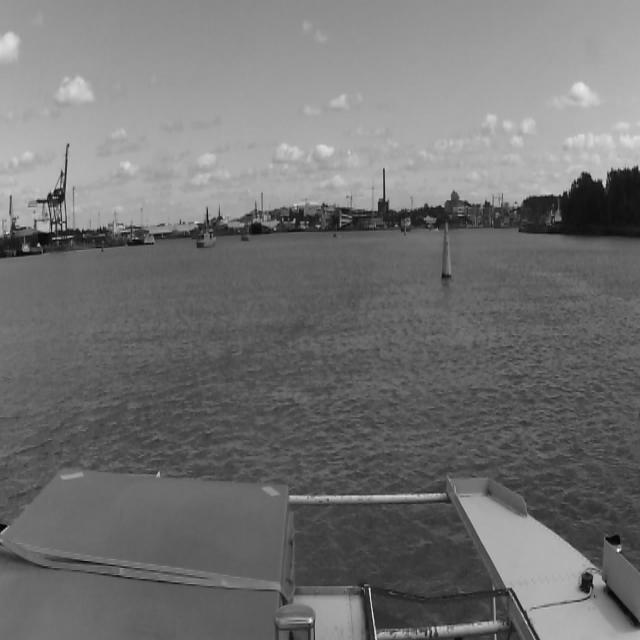buoy: (439, 222, 457, 283), (403, 226, 407, 236), (101, 244, 104, 252)
ship: (197, 230, 216, 247), (238, 225, 248, 242), (330, 230, 338, 238)
